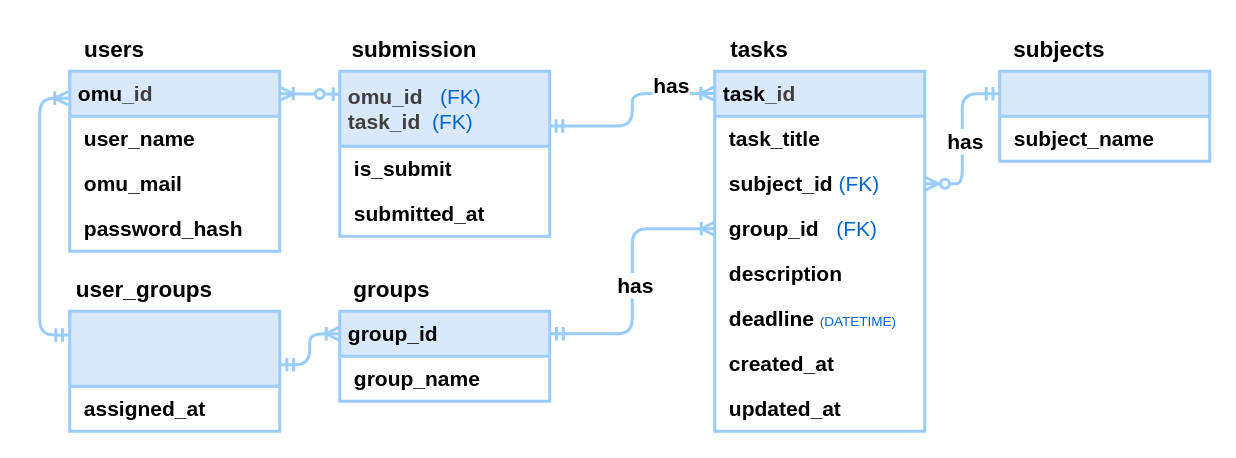
This 1236x458 diagram has some shape labels left out. Each missing label, with the box of its shape:
omu_id (FK) group_id (FK): (68, 309, 280, 432)
subject _id: (998, 69, 1210, 162)
